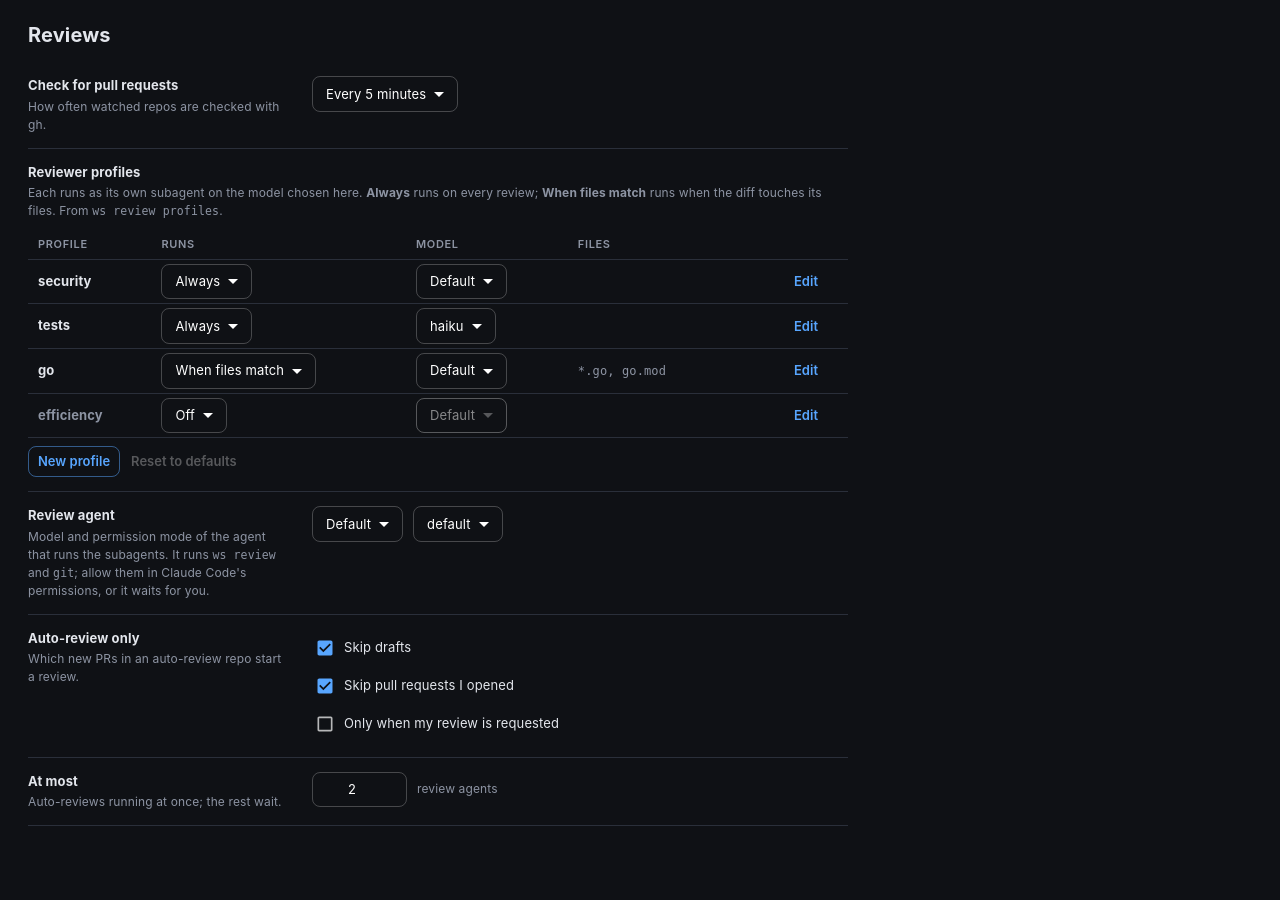
ProfileEditor › shows errors under the fields and saves nothing until they're fixed
Expected: the text "efficiency" is shown, [28, 393, 152, 438]
Click the button "New profile" at (74, 462), box [28, 446, 120, 477]
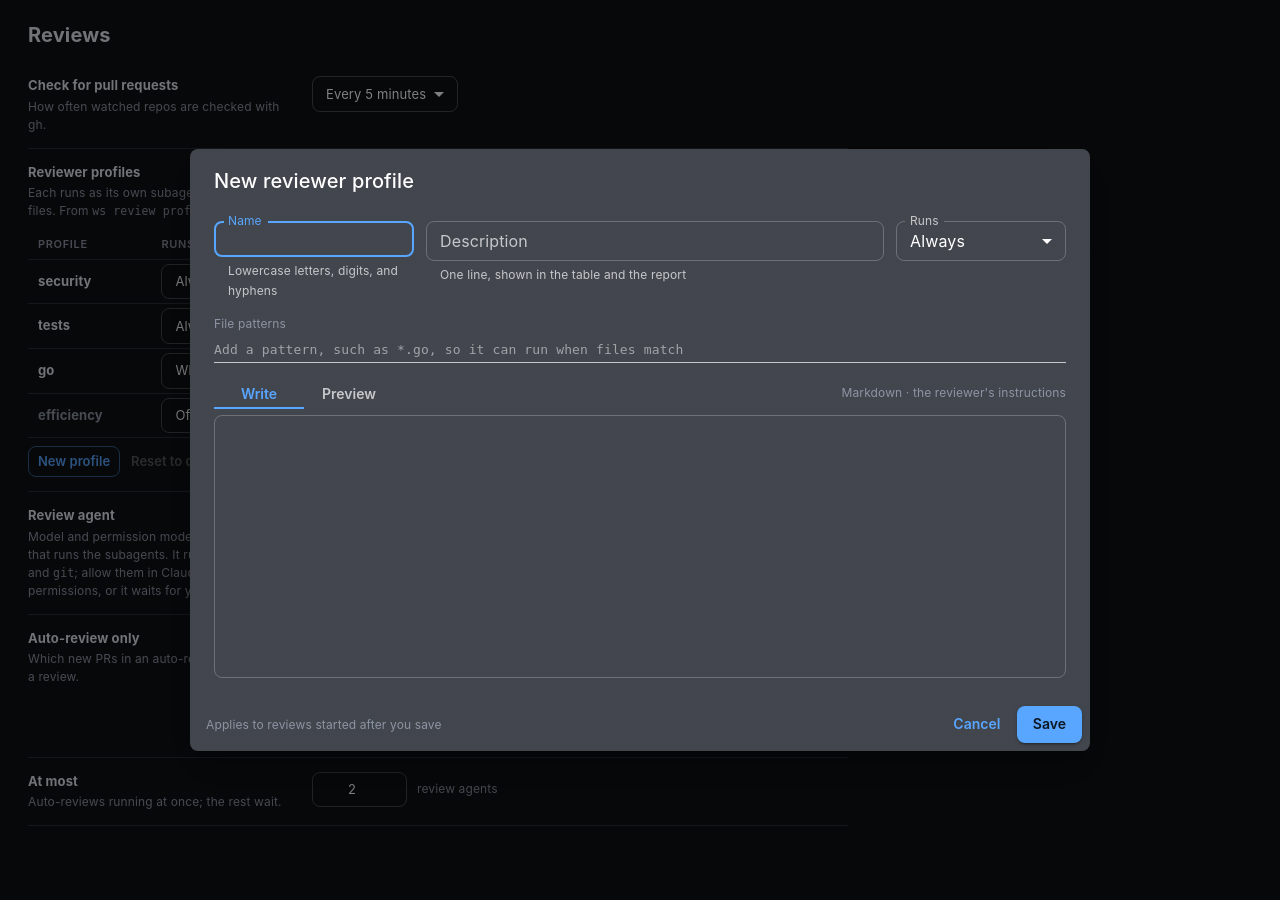
Type "Go" into the field labelled "Name" at (314, 239), box [214, 221, 414, 257]
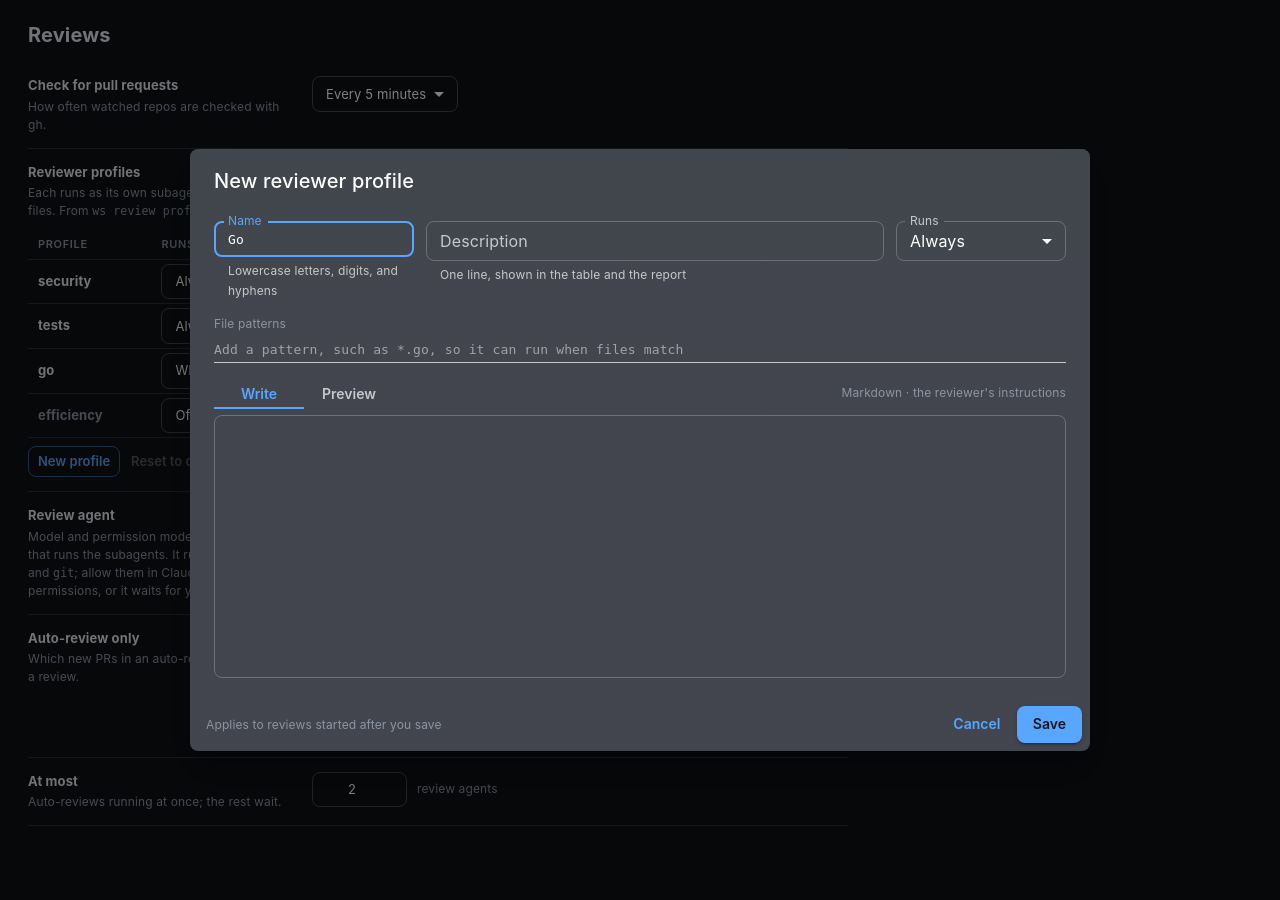
Click the button "Save" at (1049, 725), box [1017, 706, 1082, 743]
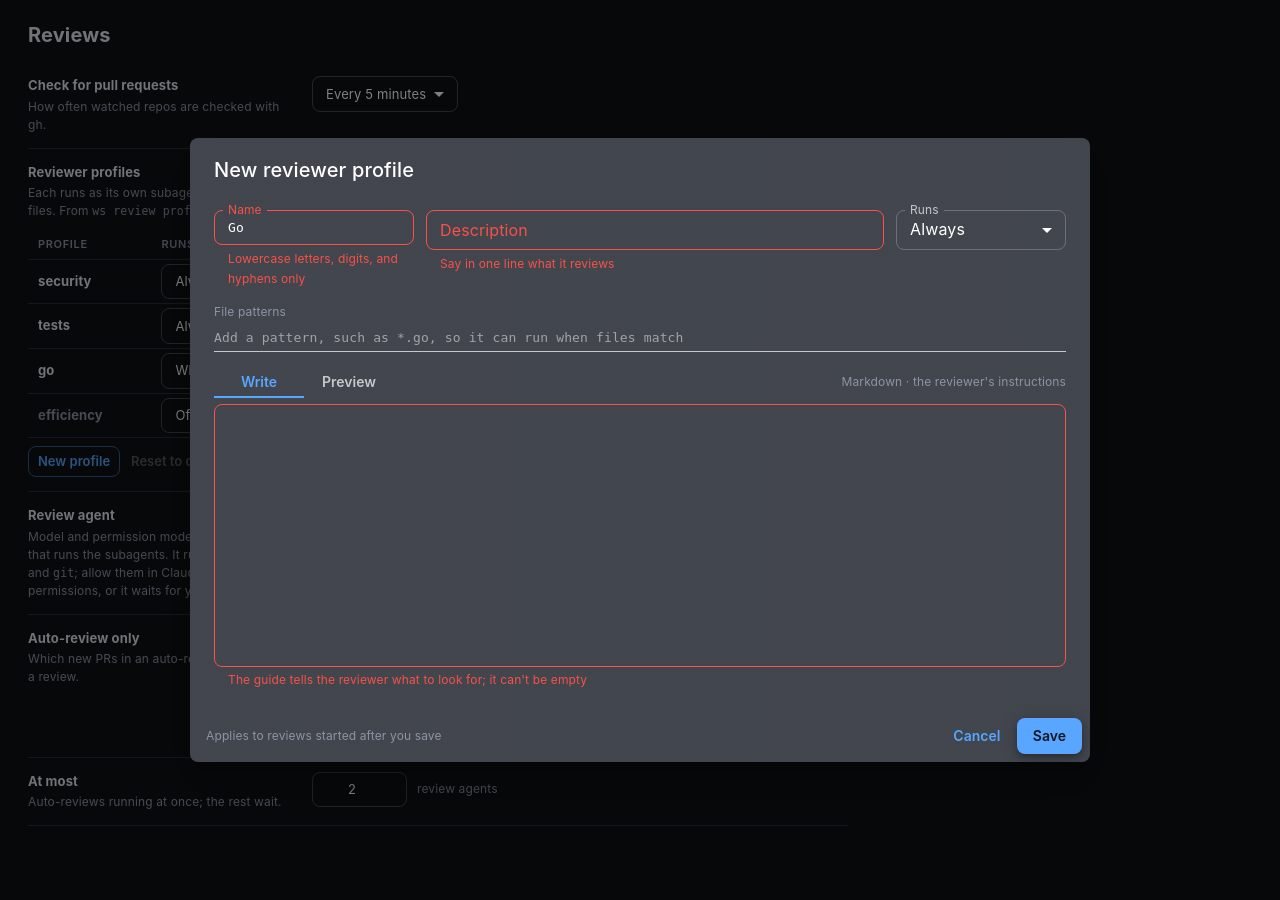
Expected: the text "Lowercase letters, digits, and hyphens only" is shown, [228, 249, 400, 289]
Expected: the text "Say in one line what it reviews" is shown, [440, 256, 615, 271]
Clear the field labelled "Name" at (314, 228), box [214, 210, 414, 245]
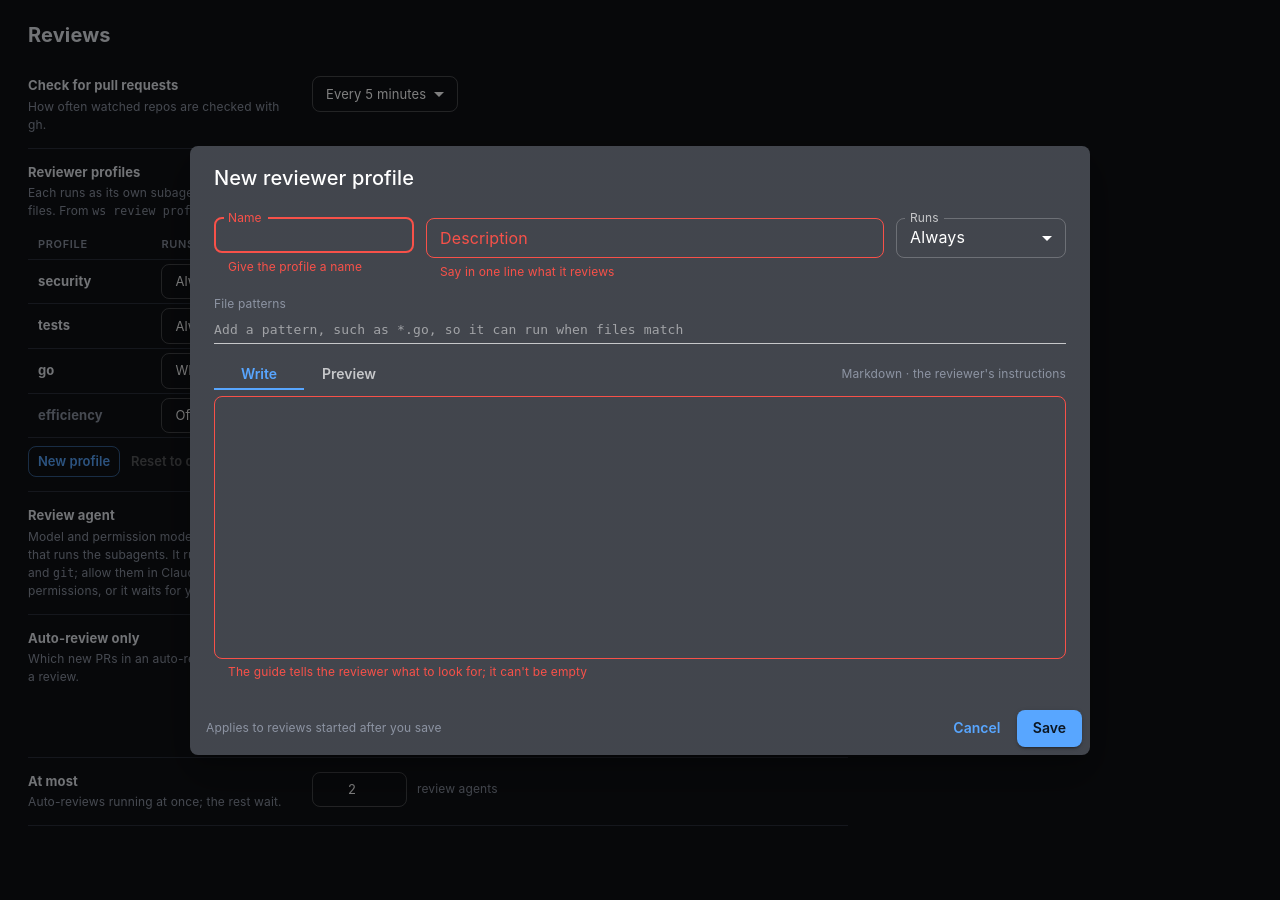
Type "go" into the field labelled "Name" at (314, 235), box [214, 218, 414, 253]
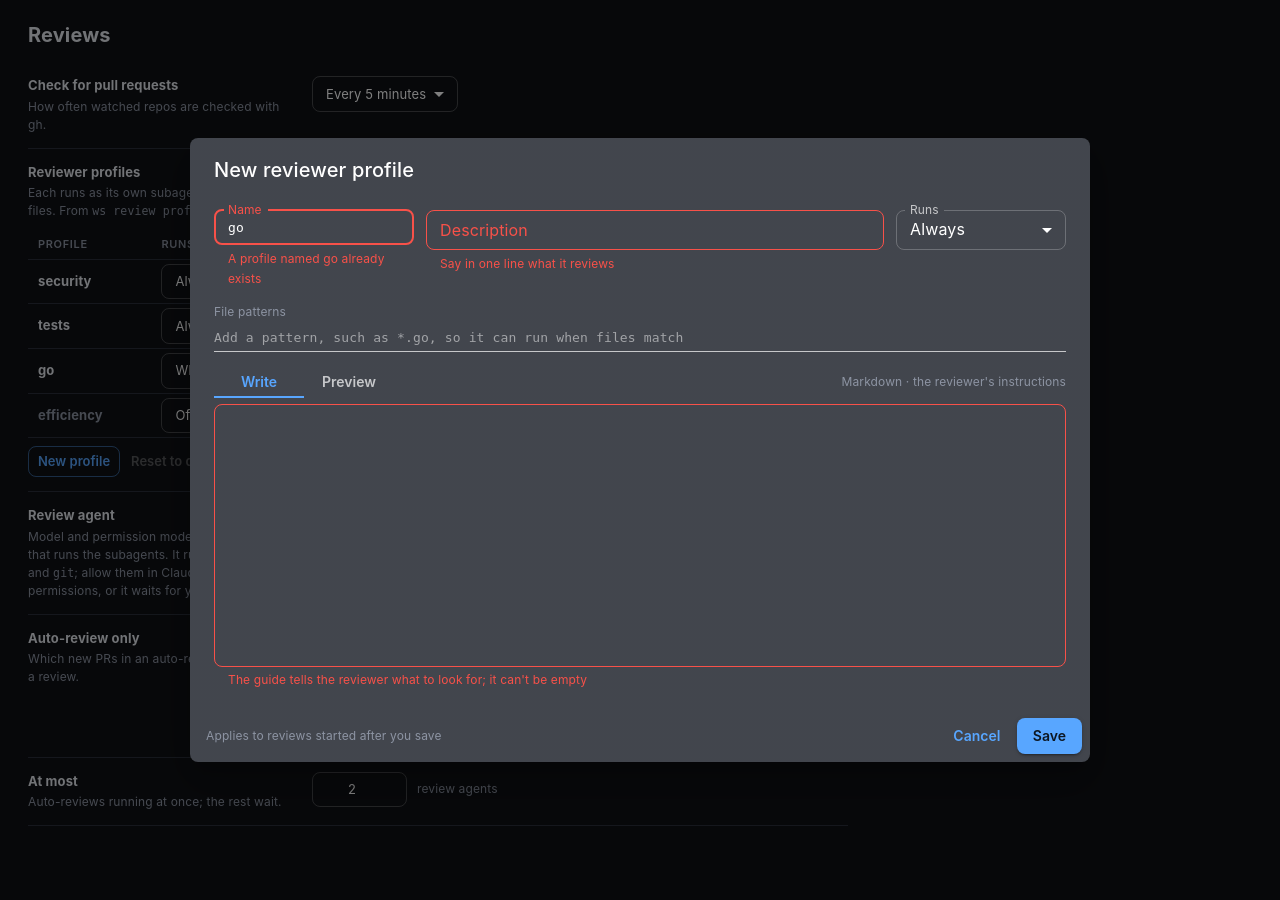
Expected: the text "A profile named go already exists" is shown, [228, 249, 400, 289]
